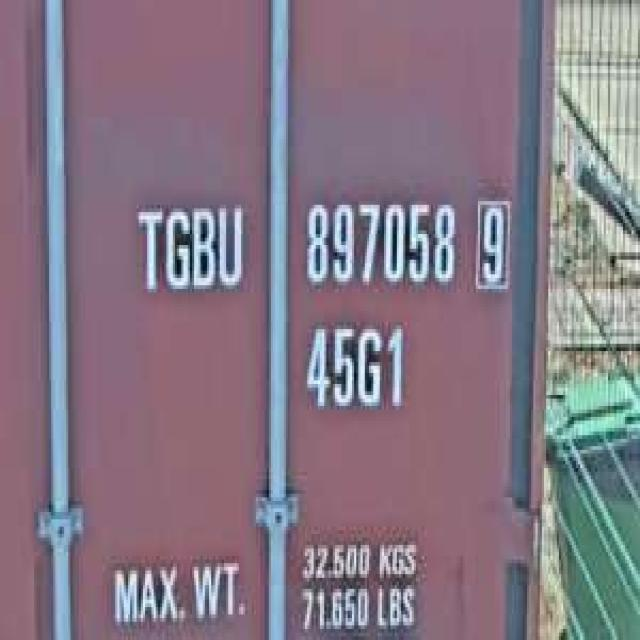dv: (469, 187, 514, 296)
owner: (132, 194, 248, 303)
serial: (298, 186, 458, 300)
size: (298, 311, 412, 420)
